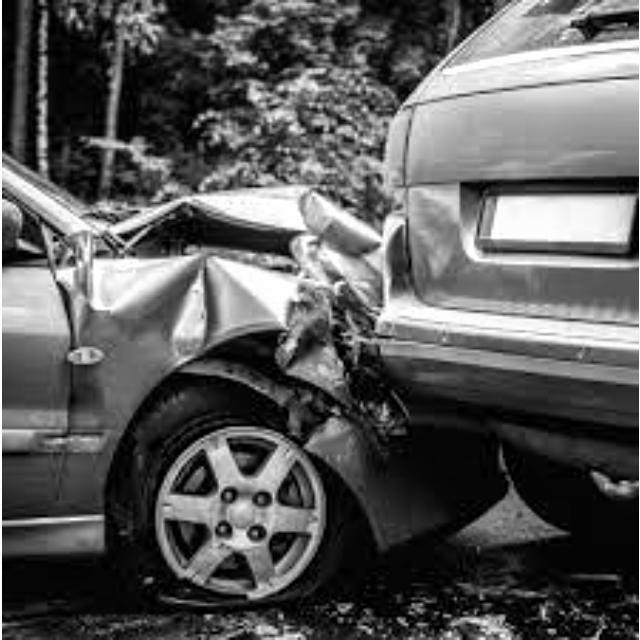bonnet-dent: (121, 183, 374, 268)
fender-dent: (98, 268, 288, 381)
